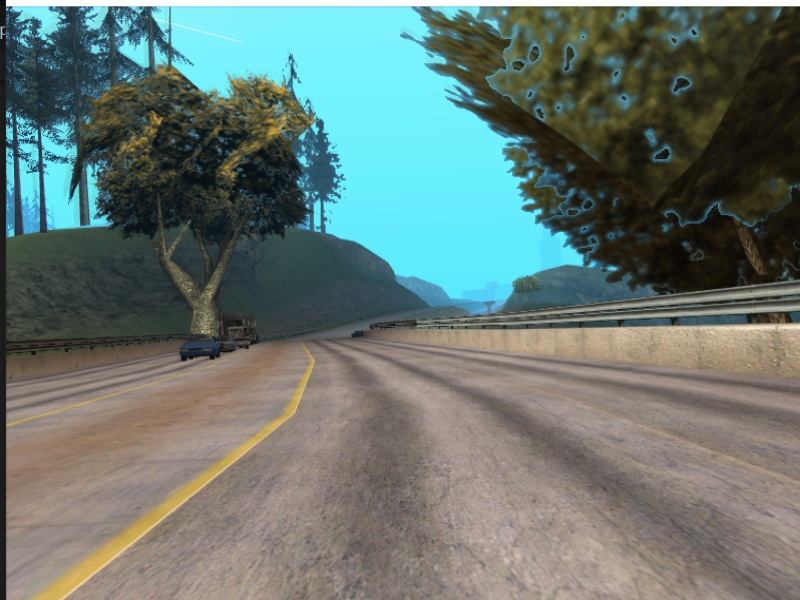vehicle: (221, 317, 261, 346), (180, 336, 220, 363)
